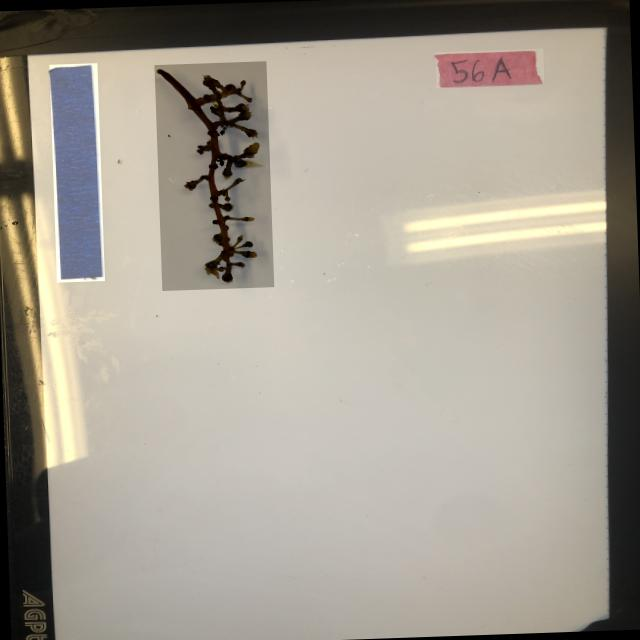index: (435, 48, 544, 88)
measure_label: (49, 63, 104, 283)
rachis_cluster: (154, 61, 274, 290)
